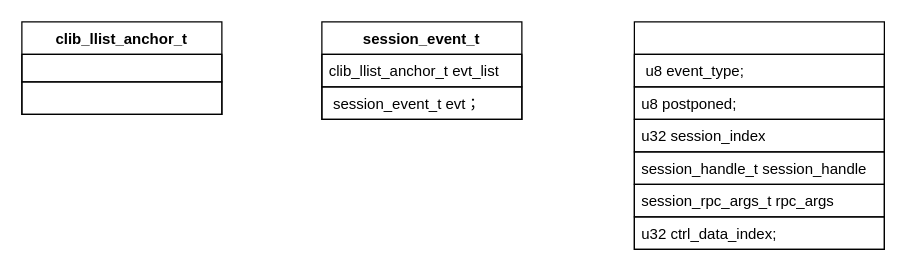
This 906x275 diagram has some shape labels left out. Here are the shapes that lost their labels. From the top down, the box of each, then its label:
(21, 53, 222, 82): clib_llist_index_t prev;
(21, 81, 222, 114): clib_llist_index_t next;
(633, 21, 884, 249): Classname
